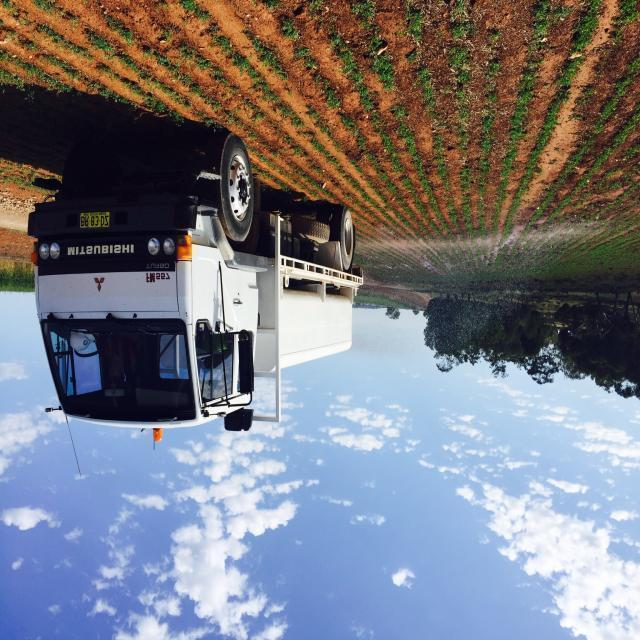truck: (26, 135, 367, 433)
